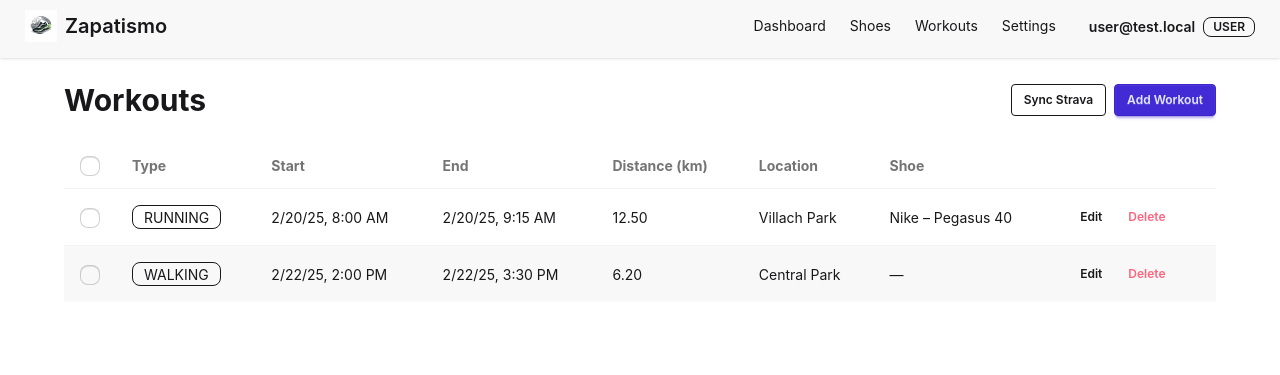
Workouts › e2e › fixtures › toolbar hidden when no workout selected
Check the checkbox with test id "workout-select-1": (90, 218) top-left (80, 208), bottom-right (100, 228)
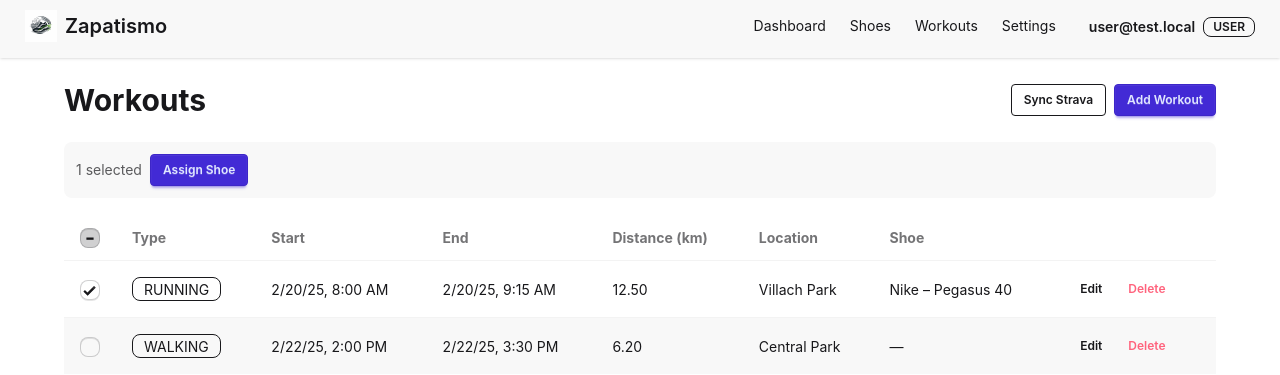
Result: the element with test id "workouts-toolbar" is shown at top-left (64, 142), bottom-right (1216, 198)
Uncheck the checkbox with test id "workout-select-1": (90, 290) top-left (80, 280), bottom-right (100, 300)
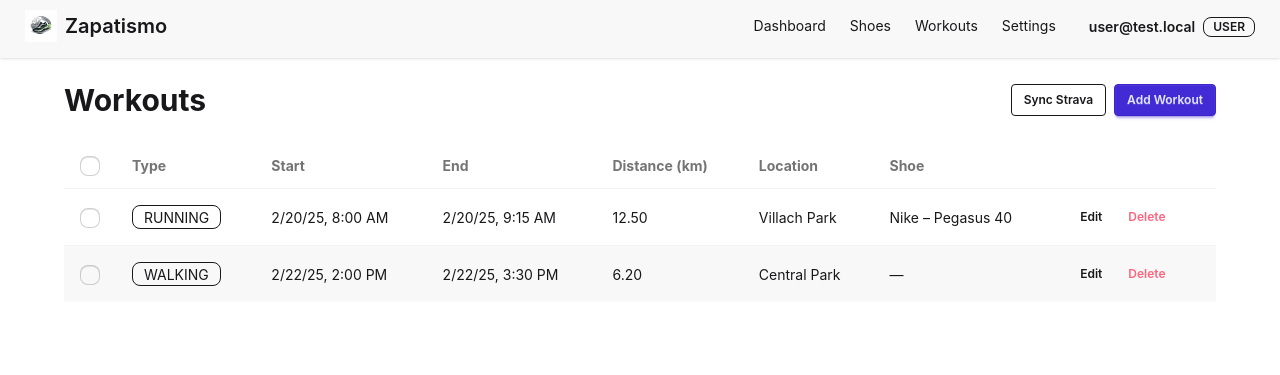
Result: the element with test id "workouts-toolbar" is gone
